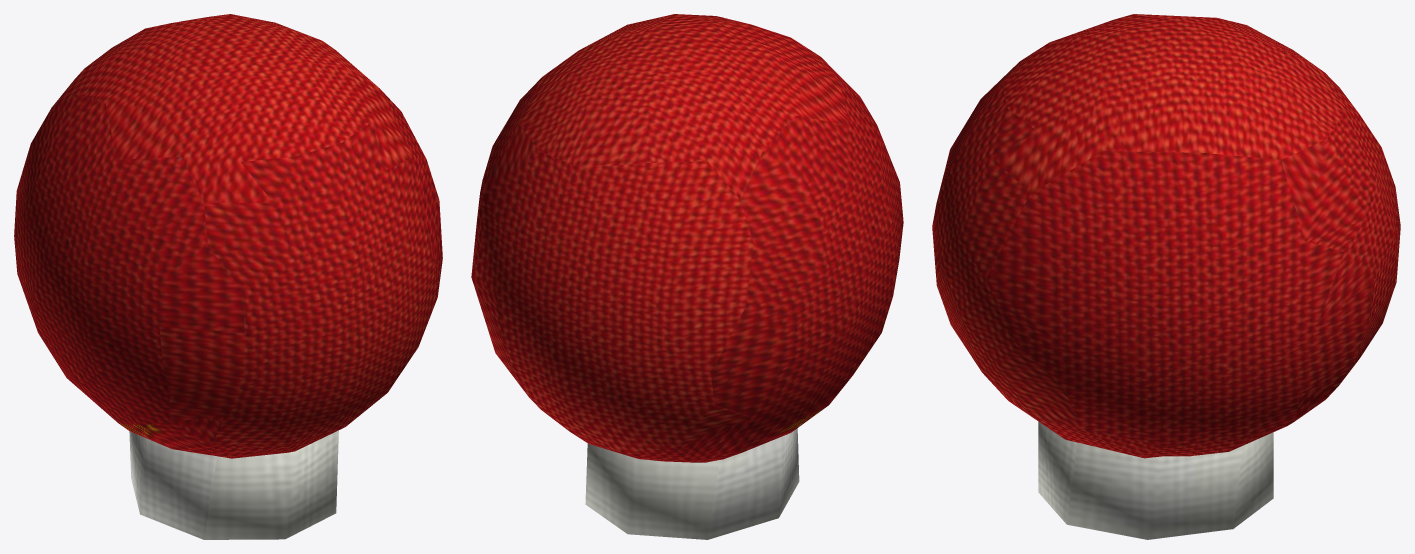
Rendered from red2.dae.
3 views of the same model, side by side, from view 1: azimuth 30°, elevation 25°; view 2: azimuth 150°, elevation 25°; view 3: azimuth 270°, elevation 25° (orthographic).
Visible parts, largest first — view 1: Sphere; view 2: Sphere; view 3: Sphere.
Part boxes in pixels (left/top/right/bottom): Sphere: left=14, top=14, right=442, bottom=539; Sphere: left=471, top=14, right=903, bottom=539; Sphere: left=932, top=14, right=1400, bottom=539.
Bounding box in the file's own units: 0.2183 × 0.2408 × 0.2629.
1 material, 1 textured.
